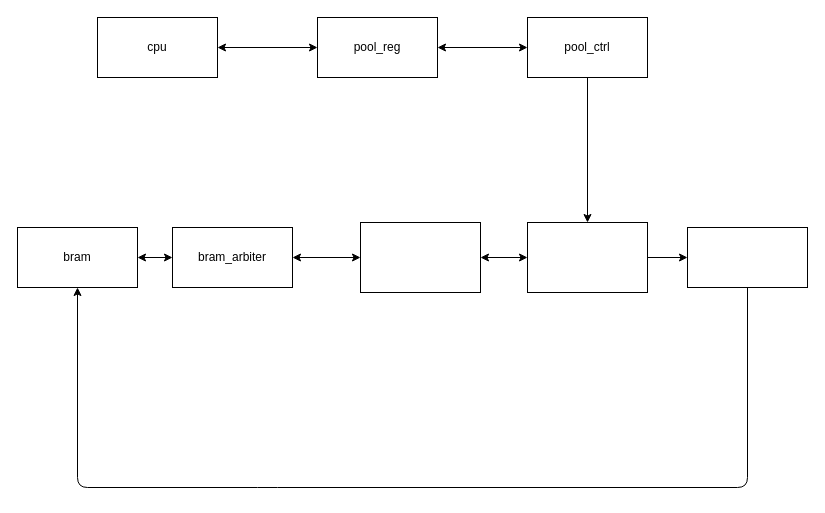
This 825x513 diagram has some shape labels left out. The shapes that lost their labels are listed below. From the top down, each one's centre as x and y in pixels, then its label:
point 420,257: byteaddr-》wordaddr
point 587,257: cmp
point 747,257: 输出拼接+写回
